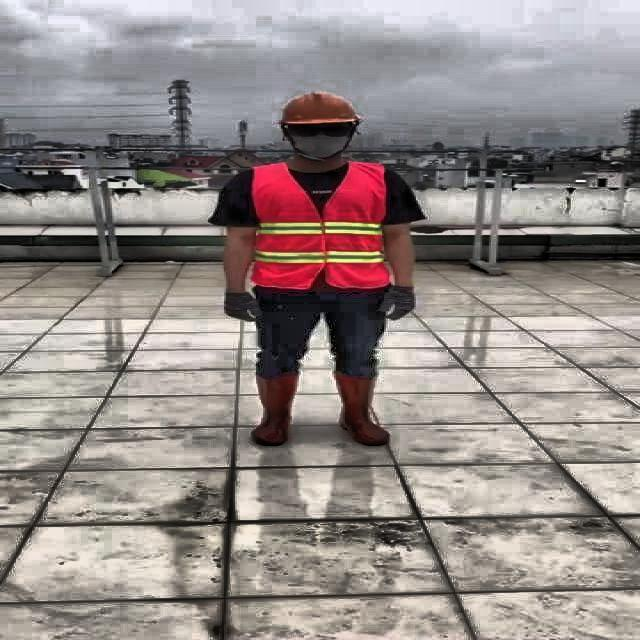safety_helmet: (274, 92, 361, 126)
safety_jacket: (244, 165, 392, 293)
